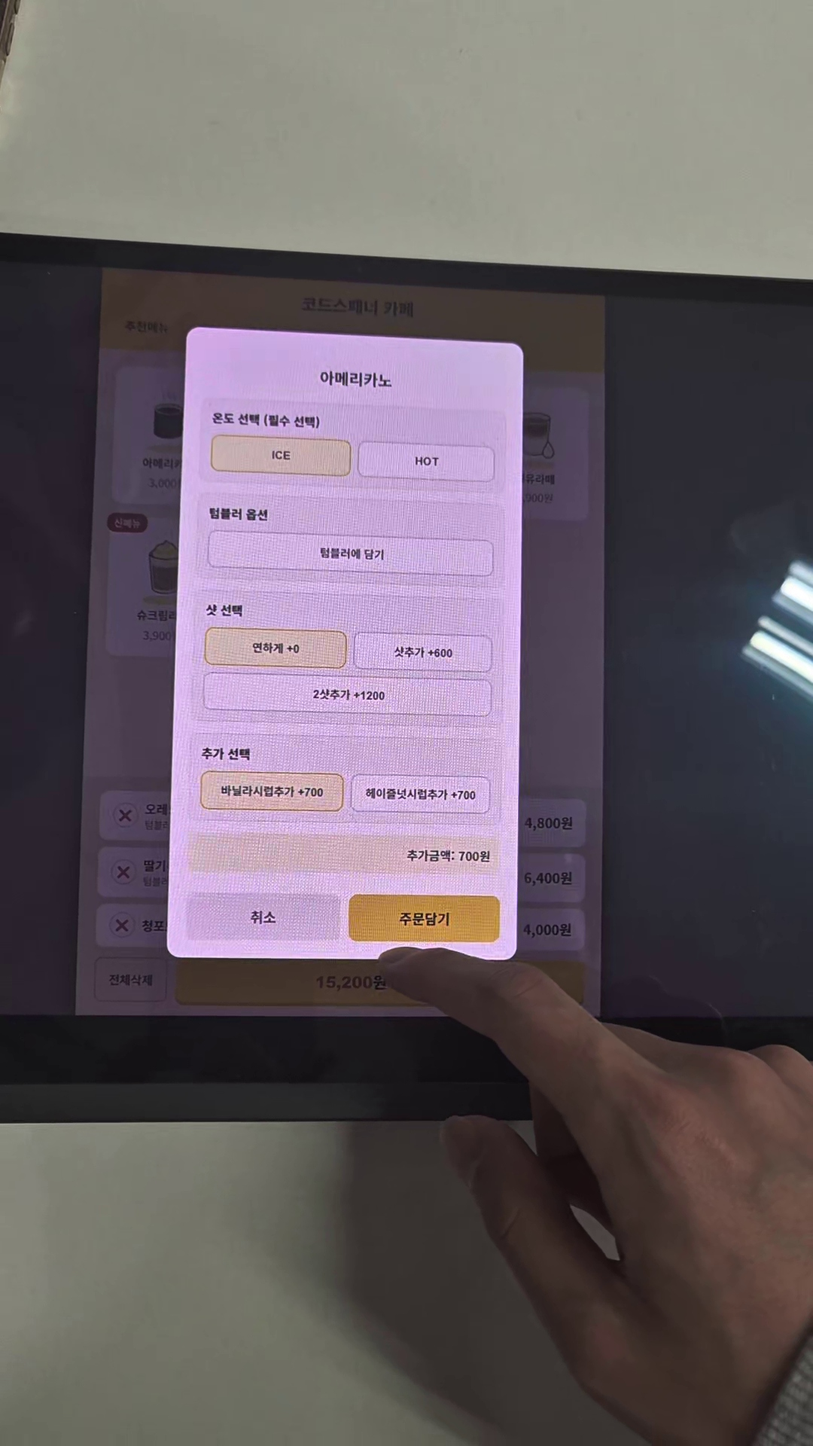action_button: (186, 894, 341, 941), (349, 895, 500, 943)
option_button: (210, 532, 496, 576), (203, 673, 491, 715), (212, 436, 351, 477), (201, 772, 344, 811), (206, 629, 347, 668), (353, 633, 492, 672), (358, 443, 494, 482), (351, 775, 490, 813)
popup_modal: (167, 327, 521, 958)
